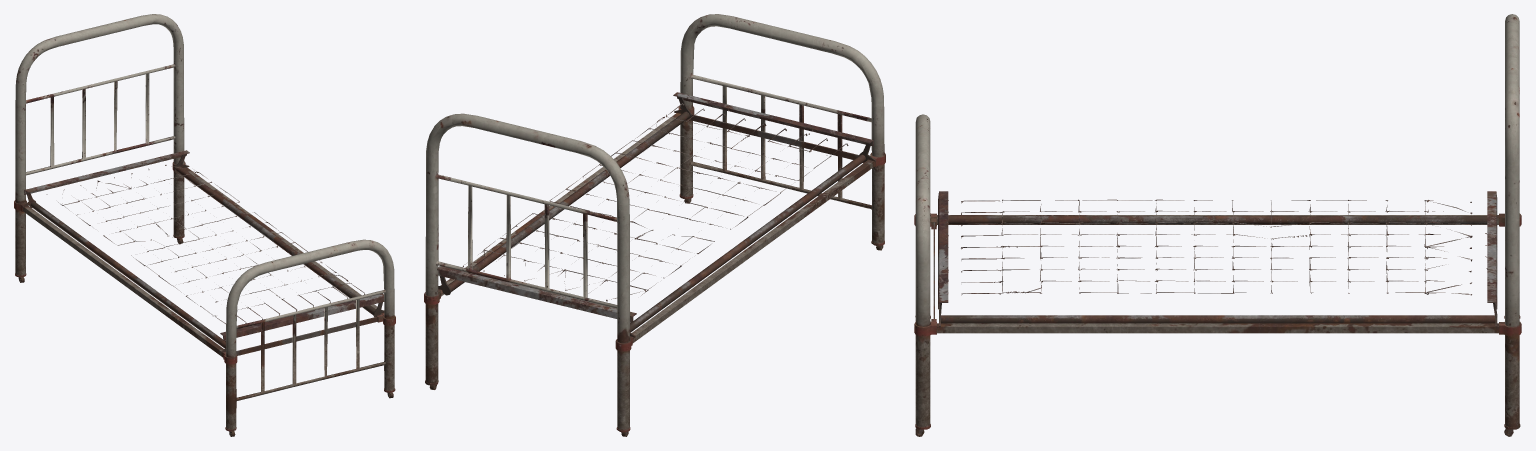
File: old_bed_frame.glb
3 views of the same model, side by side, from view 1: azimuth 30°, elevation 25°; view 2: azimuth 150°, elevation 25°; view 3: azimuth 270°, elevation 25° (orthographic). The views are drawn at different scales.
Visible parts, largest first — view 1: old_bed_frame; view 2: old_bed_frame; view 3: old_bed_frame.
Boxes of the visible parts, bbox=[...] form: old_bed_frame: bbox=[14, 14, 395, 436]; old_bed_frame: bbox=[424, 14, 885, 436]; old_bed_frame: bbox=[914, 14, 1521, 436].
Bounding box in the file's own units: 0.9047 × 1.2 × 2.
1 material, 1 textured.
